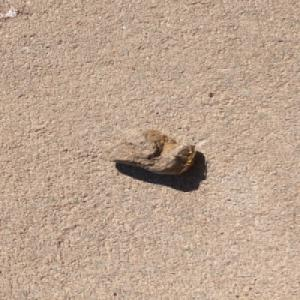Rock: (95, 127, 196, 175)
